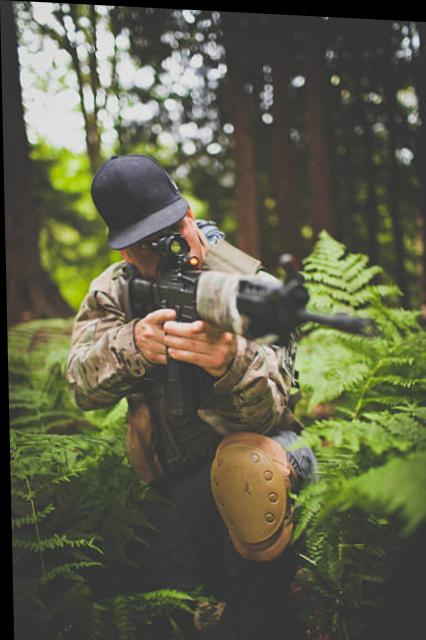other: (84, 161, 309, 564)
